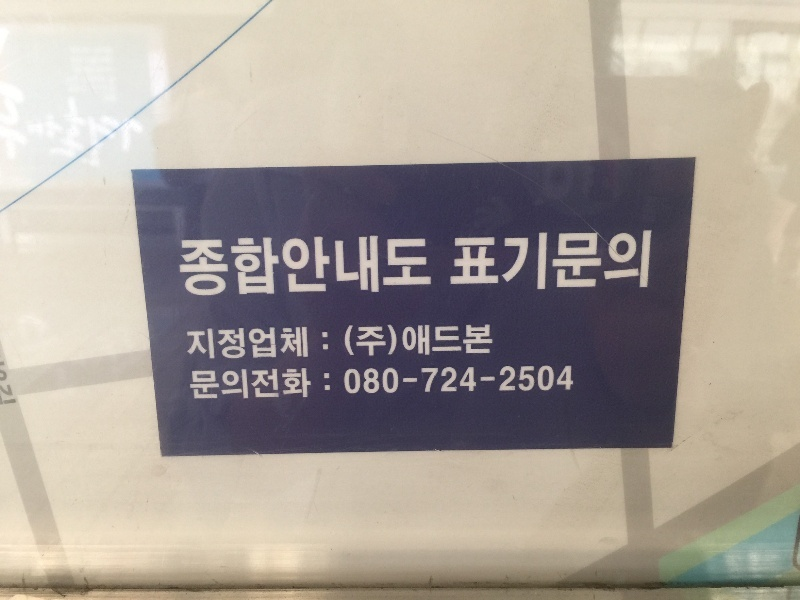text: (449, 222, 464, 301), (465, 222, 480, 301), (481, 222, 496, 301), (497, 222, 512, 301), (513, 222, 528, 301), (529, 222, 544, 301), (545, 222, 560, 301), (561, 222, 576, 301), (577, 222, 592, 301), (593, 222, 608, 301), (609, 222, 624, 301), (625, 222, 640, 301), (641, 222, 656, 301), (177, 229, 192, 301), (193, 229, 208, 301), (209, 229, 224, 301), (225, 229, 240, 301), (241, 229, 256, 301), (257, 229, 272, 301), (273, 229, 288, 301), (289, 229, 304, 301), (305, 229, 320, 301), (321, 229, 336, 301), (337, 229, 352, 301), (353, 229, 368, 301), (369, 229, 384, 301), (385, 229, 400, 301), (401, 229, 416, 301), (417, 229, 432, 301), (385, 317, 401, 369), (353, 317, 368, 369), (369, 317, 384, 369), (193, 319, 208, 365), (209, 319, 224, 365), (225, 319, 240, 365), (241, 319, 256, 365), (257, 319, 272, 365), (273, 319, 288, 365), (289, 319, 304, 365), (305, 319, 320, 365), (321, 319, 336, 365), (167, 229, 176, 301), (657, 222, 665, 301), (340, 317, 352, 369), (401, 321, 416, 362), (417, 321, 432, 362), (433, 321, 448, 362), (449, 321, 464, 362), (465, 321, 480, 362), (481, 321, 496, 362), (353, 361, 368, 401), (369, 361, 384, 401), (385, 361, 400, 401), (417, 361, 432, 401), (433, 361, 448, 401), (449, 361, 464, 401), (193, 367, 208, 406), (209, 367, 224, 406), (225, 367, 240, 406), (241, 367, 256, 406), (257, 367, 272, 406), (273, 367, 288, 406), (289, 367, 304, 406), (305, 367, 320, 406), (338, 361, 352, 401), (180, 319, 192, 365), (513, 364, 528, 400), (529, 364, 544, 400), (545, 364, 560, 400), (561, 364, 576, 400), (465, 361, 478, 401), (498, 364, 512, 400), (442, 222, 448, 301), (321, 367, 332, 406), (481, 367, 496, 394), (401, 369, 416, 395), (433, 229, 436, 301), (188, 367, 192, 406), (337, 319, 340, 365), (417, 369, 421, 395), (497, 321, 499, 362), (497, 367, 500, 394), (401, 361, 403, 401), (577, 364, 579, 400), (478, 367, 480, 394), (399, 321, 400, 362)
